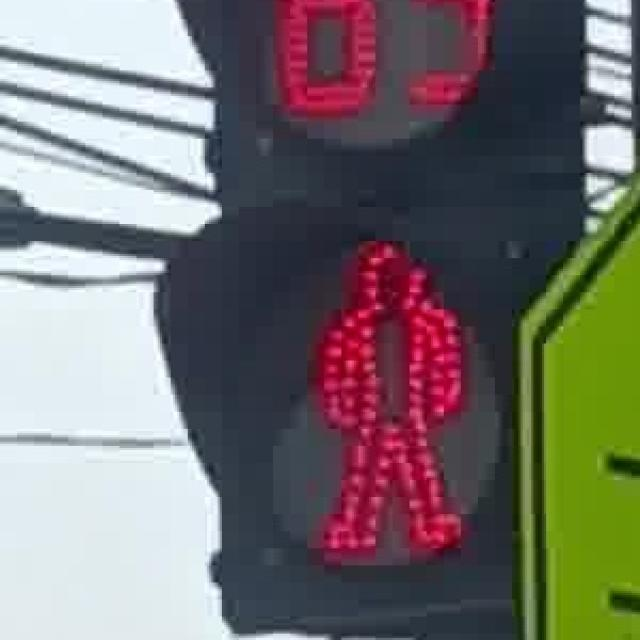red-crossing: (286, 226, 487, 576)
